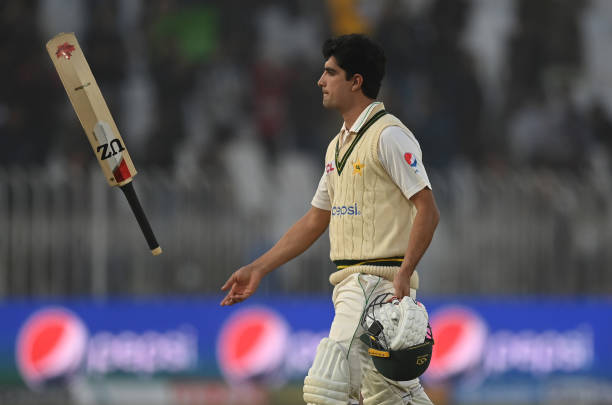bottom left: (65, 22, 83, 45)
bottom right: (38, 35, 60, 55)
top left: (128, 163, 143, 182)
top right: (100, 178, 120, 193)
